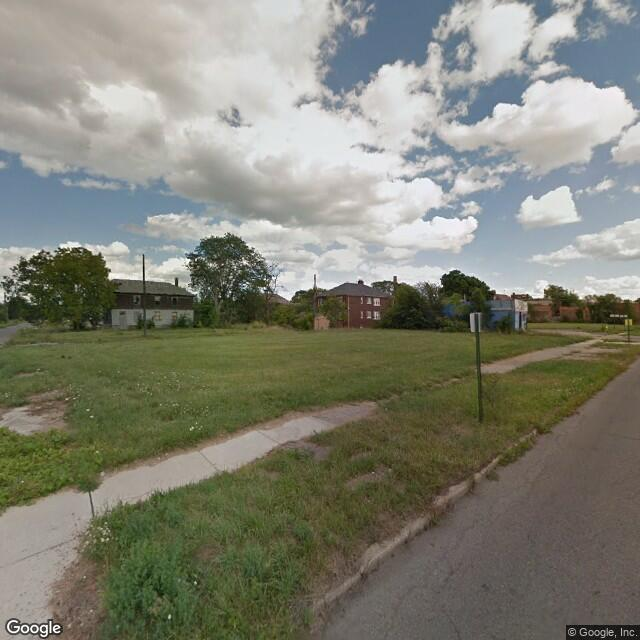litter: (82, 522, 113, 545), (95, 471, 108, 480), (192, 421, 202, 429), (192, 579, 200, 588), (63, 397, 77, 401), (66, 623, 73, 630), (88, 608, 95, 615), (88, 413, 94, 420), (158, 455, 168, 459), (82, 574, 89, 579), (168, 613, 174, 618)
